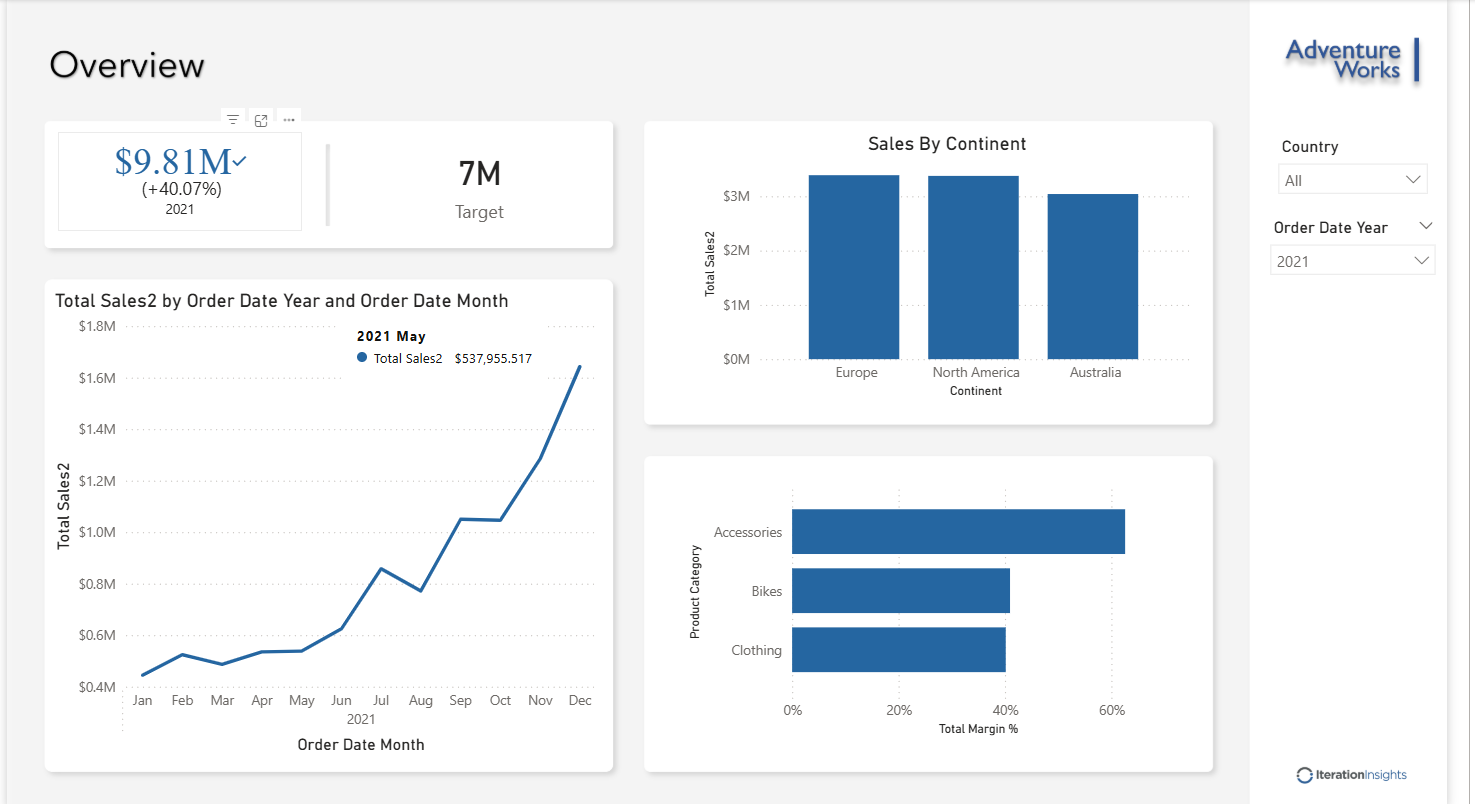

Layout of this report page (visuals, bound fields, positions):
{"tool":"powerbi","page":{"name":"Overview","canvas":[1280,720],"ordinal":0},"visuals":[{"type":"barChart","fields":{"Category":["Products.Product Category Hierarchy.Product Category","Products.Product Category Hierarchy.Product Subcategory","Products.Product Category Hierarchy.ProductName"],"Y":["Sales.Total Margin %"]},"box":[600.5,419.3,445.1,240],"z":0},{"type":"lineChart","fields":{"Y":["Customers.Total Sales2"],"Category":["Order Date.Order Date Year","Order Date.Order Date Month"]},"box":[37.7,257.5,491,417.5],"z":1000},{"type":"columnChart","title":"Sales By Continent","fields":{"Category":["Sales Territoies.Continent"],"Y":["Customers.Total Sales2"]},"box":[614.3,118.6,443.2,240.9],"z":2000},{"type":"kpi","fields":{"Indicator":["Sales.YTD Sales"],"TrendLine":["Order Date.Order Date Year"],"Goal":["Sales.Target"]},"box":[45.1,118.6,217,87.4],"z":3000},{"type":"card","fields":{"Values":["Sales.Target"]},"box":[331,118.6,178.4,90.1],"z":4000},{"type":"slicer","fields":{"Values":["Sales Territoies.Country"]},"box":[1120,118.6,152.6,63.4],"z":5000},{"type":"slicer","fields":{"Values":["Order Date.Order Date Year"]},"box":[1112.6,190.3,167.4,67.1],"z":6000}]}

Visuals, with their boxes on the page's 1280x720 design canvas (x1, y1, x2, y2). These are canvas units, not pixel positions in the 1475x804 screenshot, which may show the page scaled, cropped or inside an application window:
barChart - Products.Product Category Hierarchy.Product Category x Products.Product Category Hierarchy.Product Subcategory: (left=600, top=419, right=1046, bottom=659)
lineChart - Customers.Total Sales2 x Order Date.Order Date Year: (left=38, top=258, right=529, bottom=675)
"Sales By Continent" columnChart: (left=614, top=119, right=1058, bottom=360)
kpi - Sales.YTD Sales x Order Date.Order Date Year: (left=45, top=119, right=262, bottom=206)
card - Sales.Target: (left=331, top=119, right=509, bottom=209)
slicer - Sales Territoies.Country: (left=1120, top=119, right=1273, bottom=182)
slicer - Order Date.Order Date Year: (left=1113, top=190, right=1280, bottom=257)
